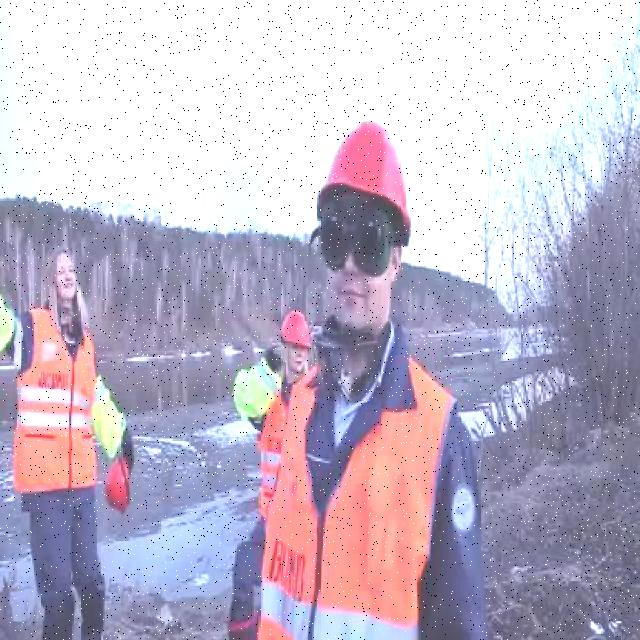Gloves: (122, 424, 136, 479), (267, 343, 284, 371)
Helmet: (314, 119, 417, 238), (105, 450, 132, 515), (278, 304, 310, 354)
Mask: (264, 348, 456, 636), (0, 302, 137, 638), (12, 303, 98, 494), (86, 369, 125, 458), (234, 353, 278, 418), (260, 400, 283, 494)
